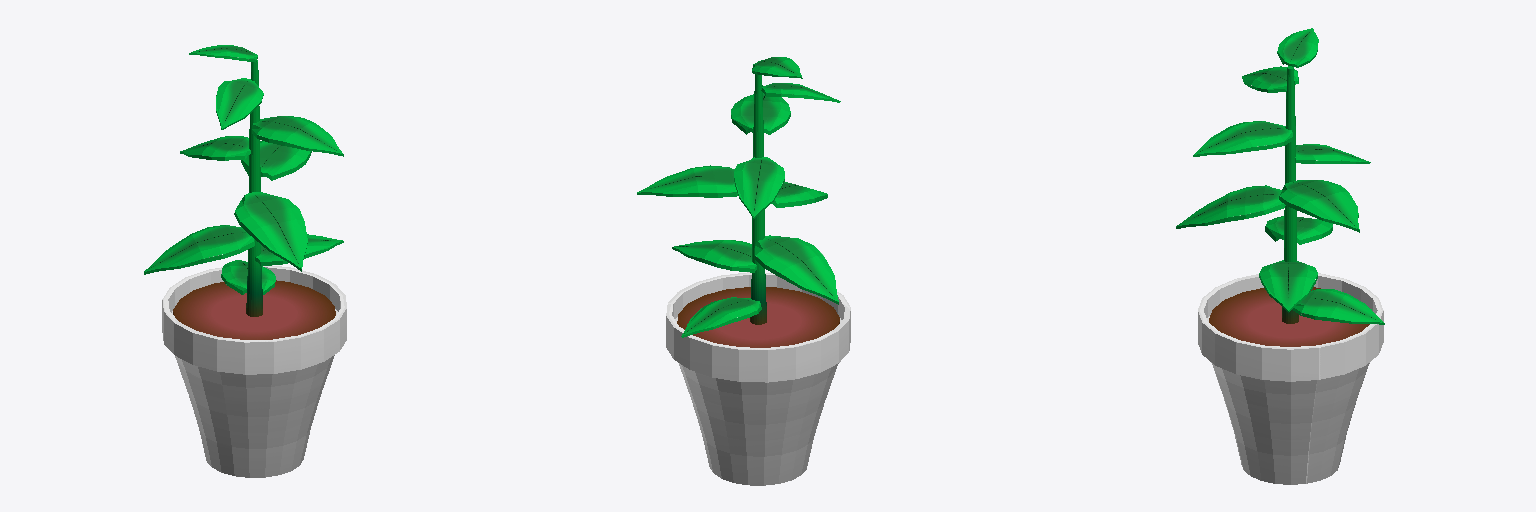
3 views of the same model, side by side, from view 1: azimuth 30°, elevation 25°; view 2: azimuth 150°, elevation 25°; view 3: azimuth 270°, elevation 25° (orthographic).
Visible parts, largest first — view 1: pCube15; view 2: pCube15; view 3: pCube15.
Part boxes in pixels (bbox=[...]): pCube15: bbox=[144, 45, 346, 477]; pCube15: bbox=[637, 57, 850, 485]; pCube15: bbox=[1176, 28, 1384, 484].
Bounding box in the file's own units: 8.54 × 18.32 × 8.42.
Materials: 1 (1 with a texture image).